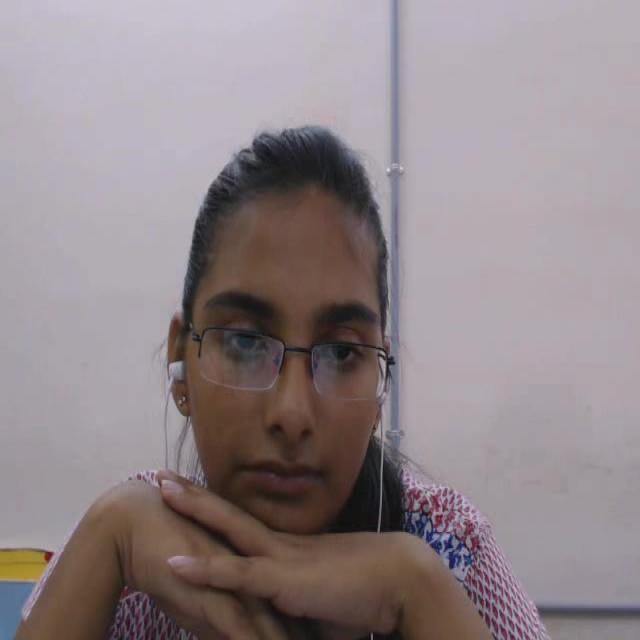Bored: (125, 86, 418, 579)
